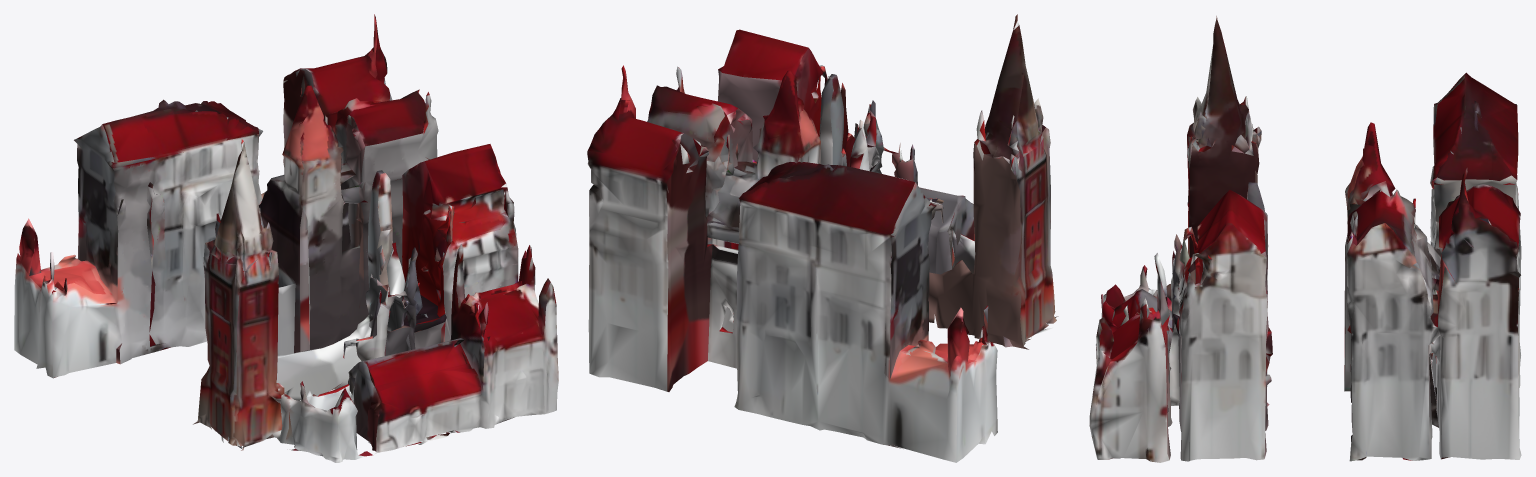
Rendered from sanguine_furnace.glb.
3 renders of one model, left to right at view 1: azimuth 30°, elevation 25°; view 2: azimuth 150°, elevation 25°; view 3: azimuth 270°, elevation 25°, orthographic. The views are drawn at different scales.
Parts seen in each view (by area): view 1: LP_baked; view 2: LP_baked; view 3: LP_baked.
Part boxes in pixels (<box>): LP_baked: <box>14,14,558,462</box>; LP_baked: <box>587,14,1058,462</box>; LP_baked: <box>1089,16,1521,462</box>.
Size of the model in its own units: 1.96 by 1.59 by 1.98.
1 material, 1 textured.
